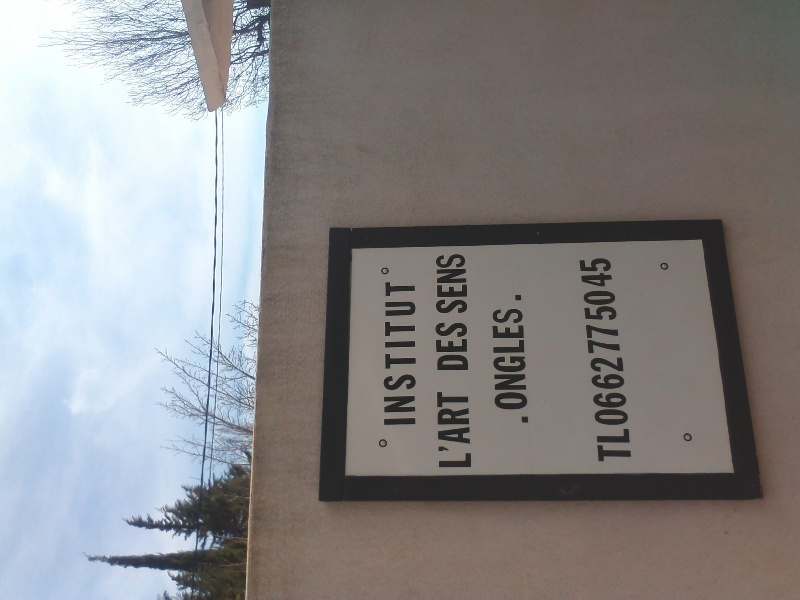text: (593, 256, 608, 465), (609, 256, 624, 465), (579, 256, 592, 465), (385, 279, 400, 429), (401, 279, 416, 429), (625, 256, 635, 465), (497, 293, 512, 427), (513, 293, 528, 427), (449, 390, 464, 470), (449, 253, 464, 316), (437, 390, 448, 470), (449, 321, 464, 372), (436, 253, 448, 316), (465, 390, 474, 470), (434, 321, 448, 372), (491, 293, 496, 427), (417, 279, 420, 429), (529, 293, 531, 427), (465, 321, 470, 372), (465, 253, 469, 316), (383, 279, 384, 429)
